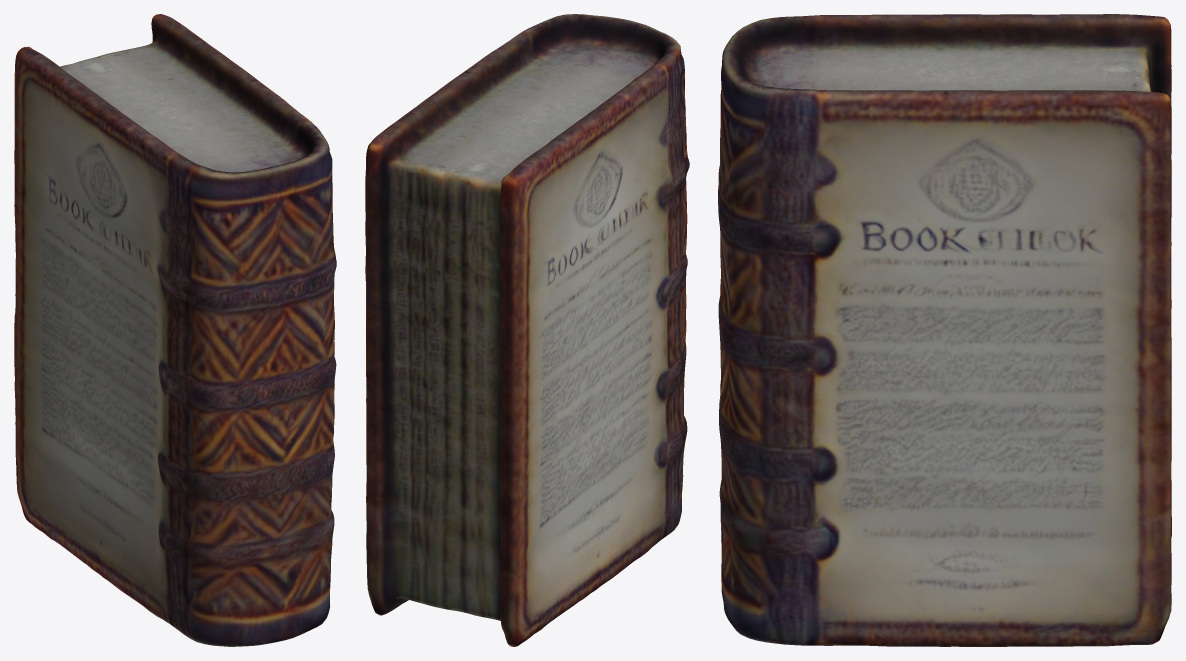
File: 64adfd967fa0_book_min.fbx
3 views of the same model, side by side, from view 1: azimuth 30°, elevation 25°; view 2: azimuth 150°, elevation 25°; view 3: azimuth 270°, elevation 25° (orthographic). The views are drawn at different scales.
Parts seen in each view (by area): view 1: mesh; view 2: mesh; view 3: mesh.
Boxes of the visible parts, x1,y1,x2,y2 form: mesh: [14, 14, 336, 646]; mesh: [365, 14, 689, 646]; mesh: [718, 14, 1171, 646].
Bounding box in the file's own units: 33.92 × 99.96 × 73.77.
